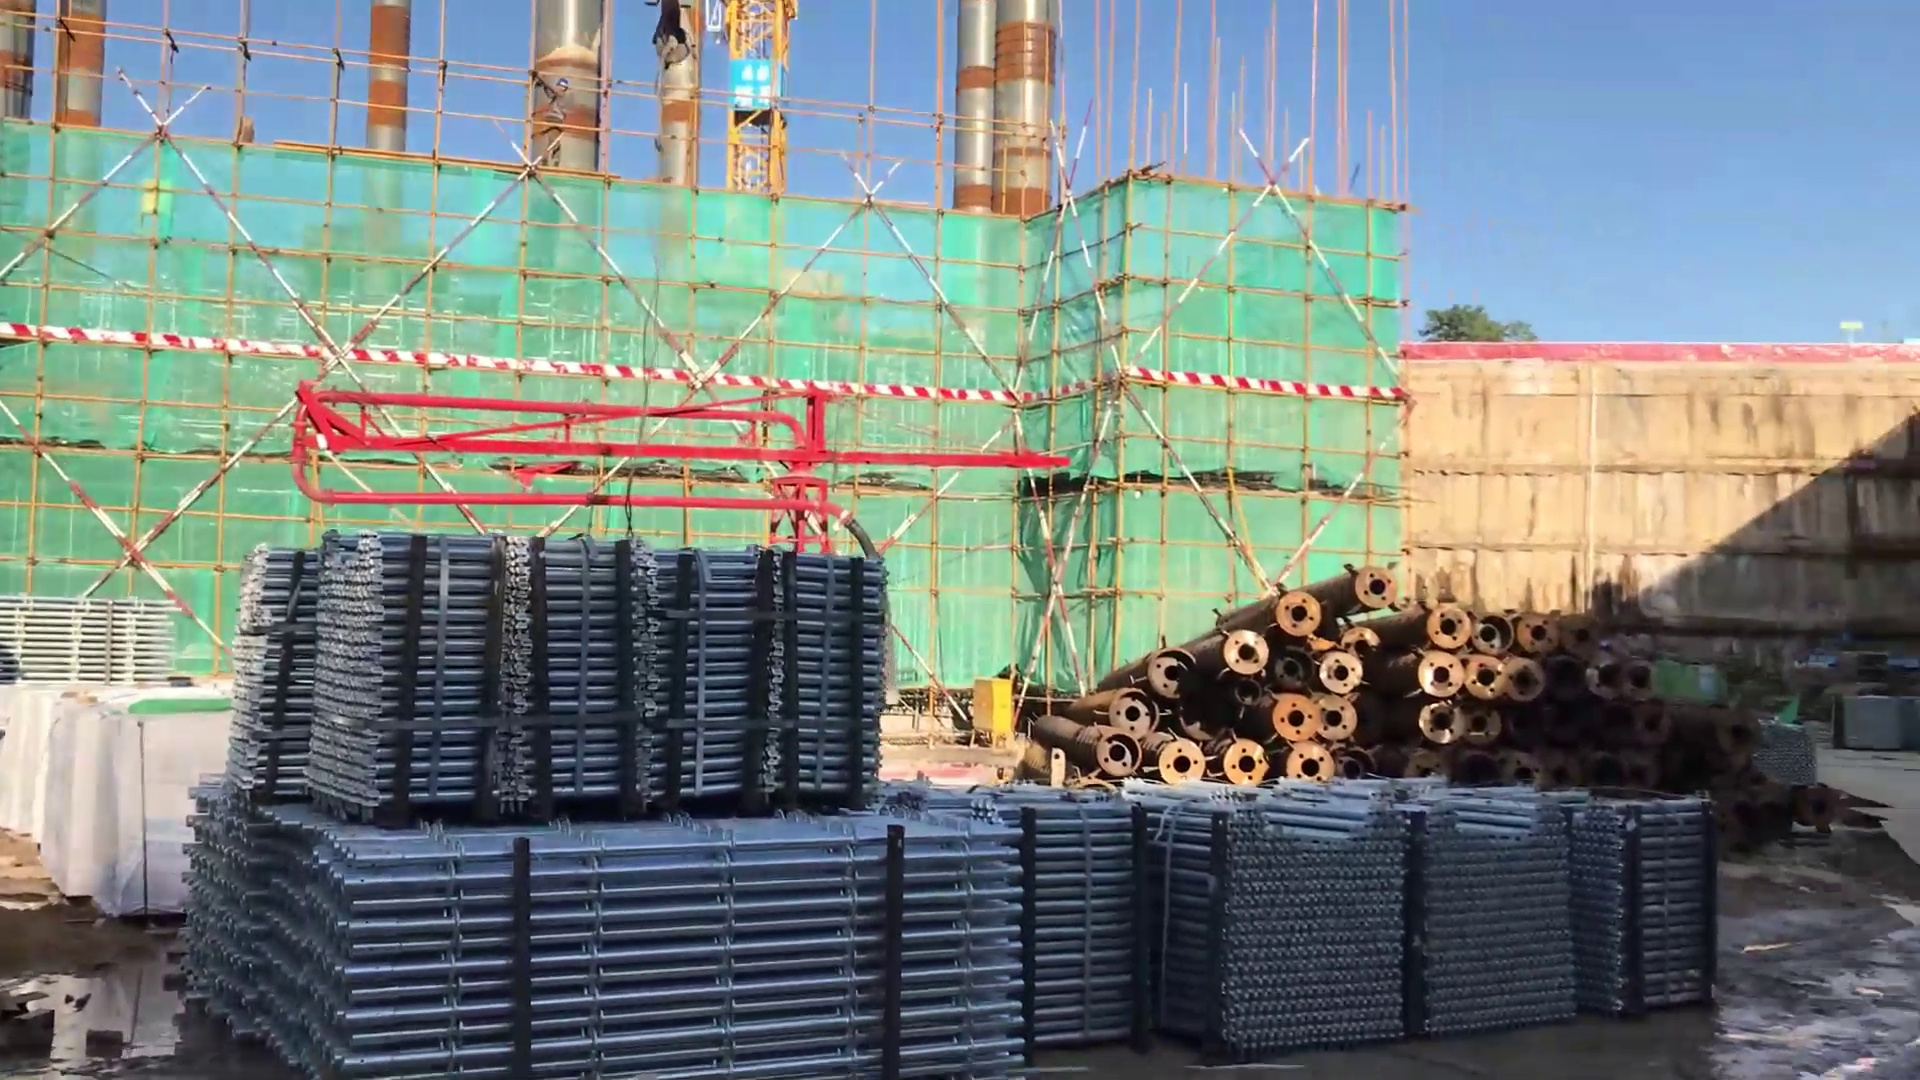ebox: (960, 663, 1034, 738)
scaffold: (208, 785, 1143, 1069), (223, 506, 837, 804), (1155, 771, 1410, 1055), (1400, 781, 1581, 1044), (1575, 778, 1727, 1015), (3, 587, 166, 694)
